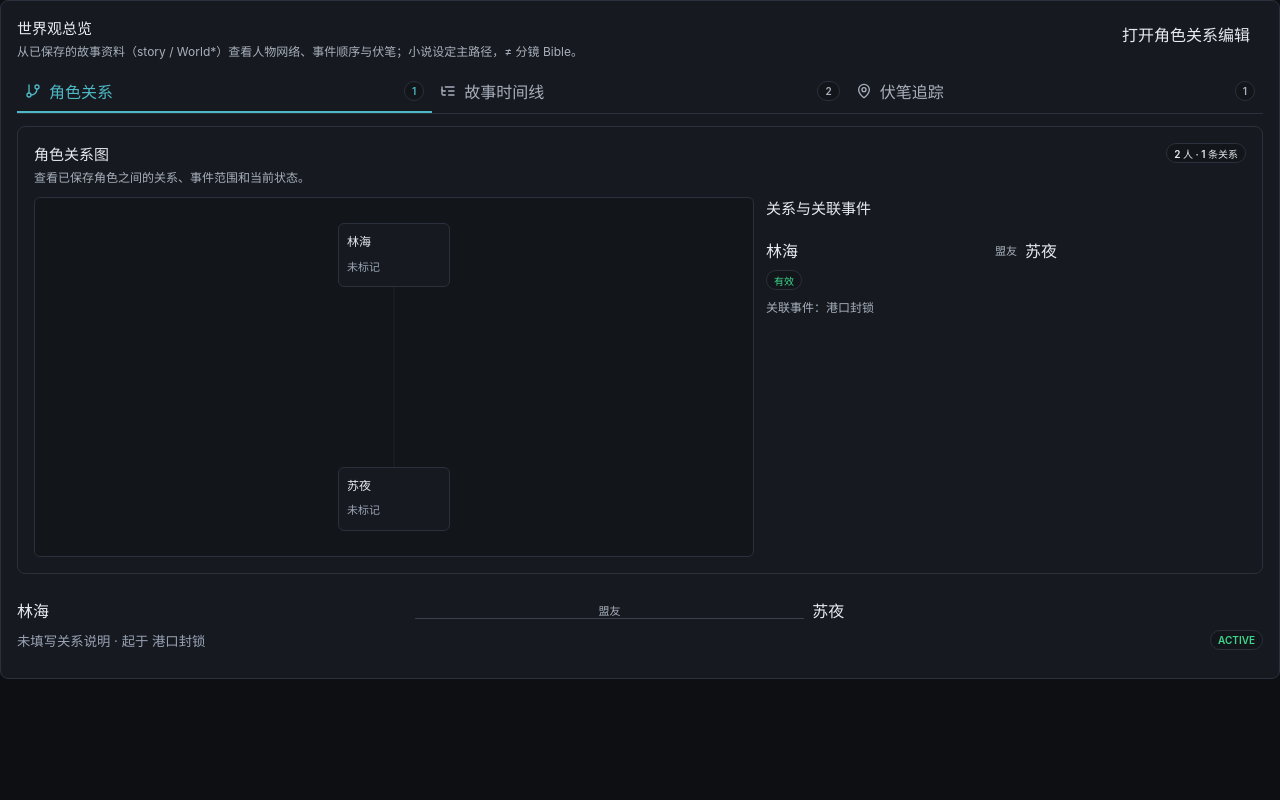
WorldBuildingDashboard › orders real events and shows conflict state
Click the tab "故事时间线 2" at (504, 92), box [432,71,848,113]
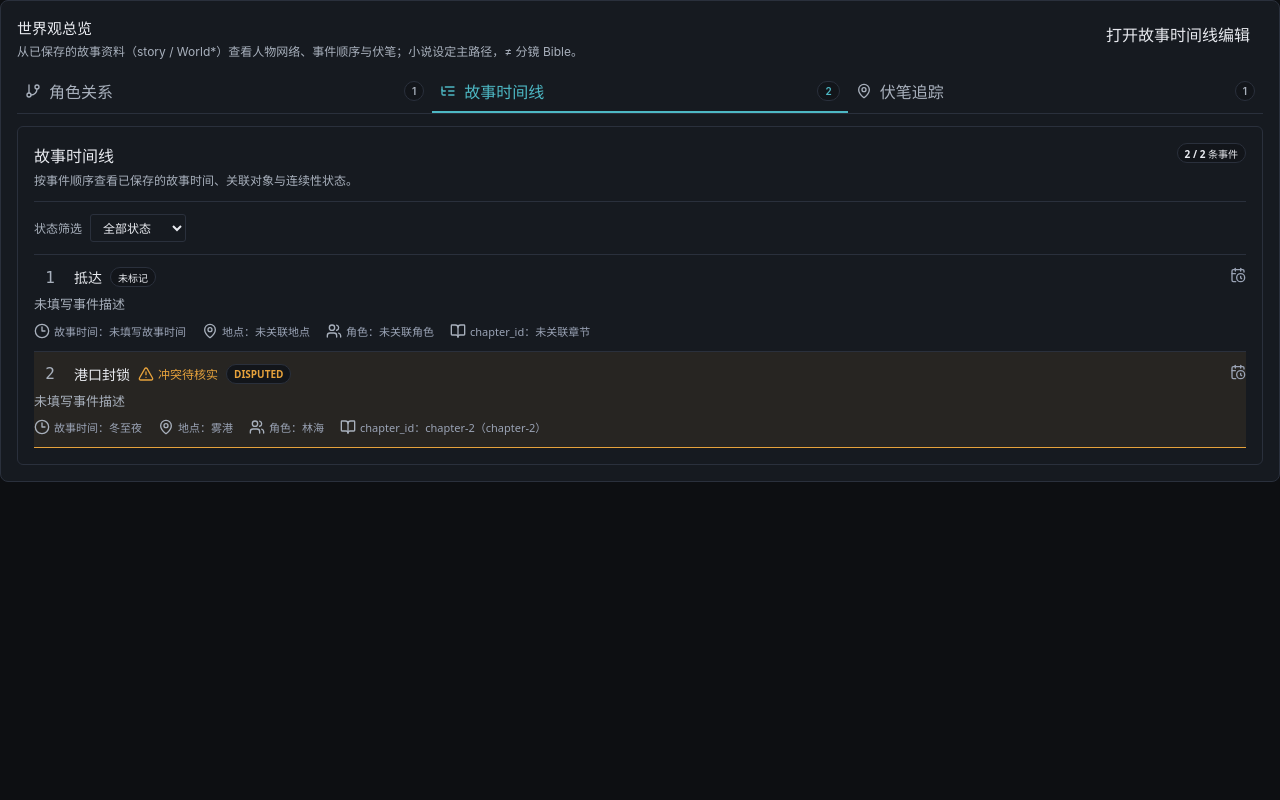
Result: the text "抵达" is shown at [74,267,102,287]
